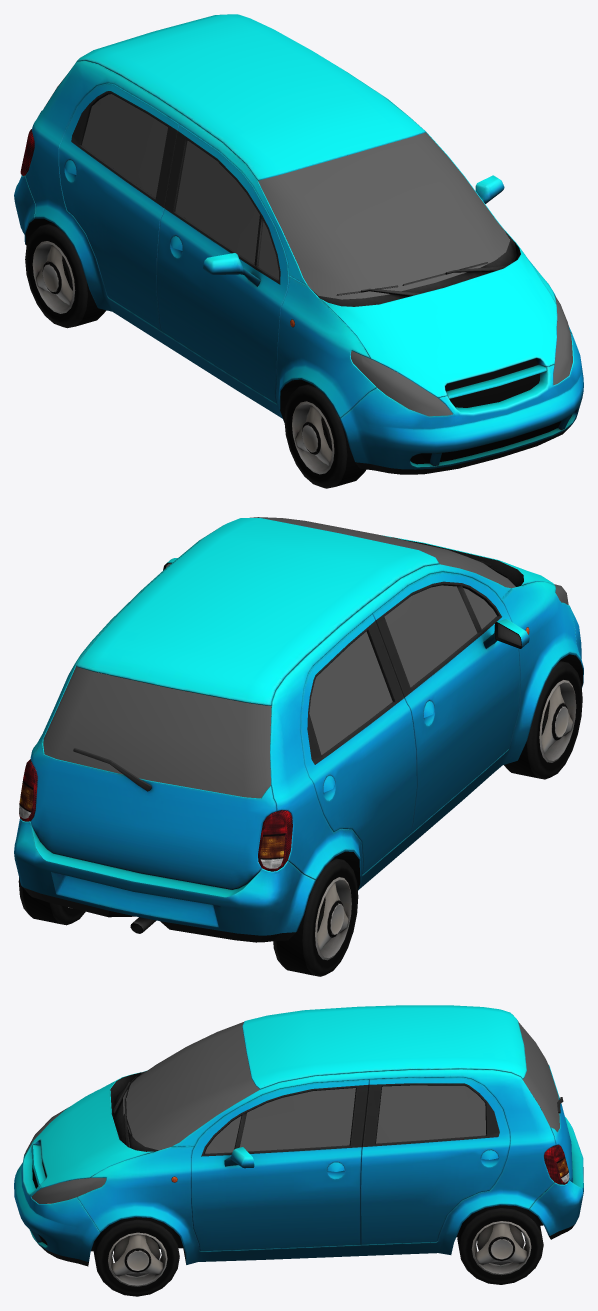
Rendered from pack_compact.glb.
3 renders of one model, top to bottom at view 1: azimuth 30°, elevation 25°; view 2: azimuth 150°, elevation 25°; view 3: azimuth 270°, elevation 25°, orthographic. The views are drawn at different scales.
Visible parts, largest first — view 1: Compact Body, Wheel_C003, Wheel_C002; view 2: Compact Body, Wheel_C002, Wheel_C003, Wheel_C001; view 3: Compact Body, Wheel_C001, Wheel_C.
Part boxes in pixels (x1=…): Compact Body: x1=14, y1=14, x2=583, y2=474; Wheel_C003: x1=284, y1=383, x2=366, y2=488; Wheel_C002: x1=25, y1=222, x2=106, y2=328; Compact Body: x1=14, y1=517, x2=583, y2=942; Wheel_C002: x1=273, y1=858, x2=358, y2=976; Wheel_C003: x1=504, y1=661, x2=582, y2=779; Wheel_C001: x1=18, y1=877, x2=85, y2=925; Compact Body: x1=14, y1=1005, x2=583, y2=1266; Wheel_C001: x1=457, y1=1205, x2=543, y2=1284; Wheel_C: x1=93, y1=1217, x2=179, y2=1296.
Bounding box in the file's own units: 1.81 × 1.48 × 3.66.
4 materials, 3 textured.
